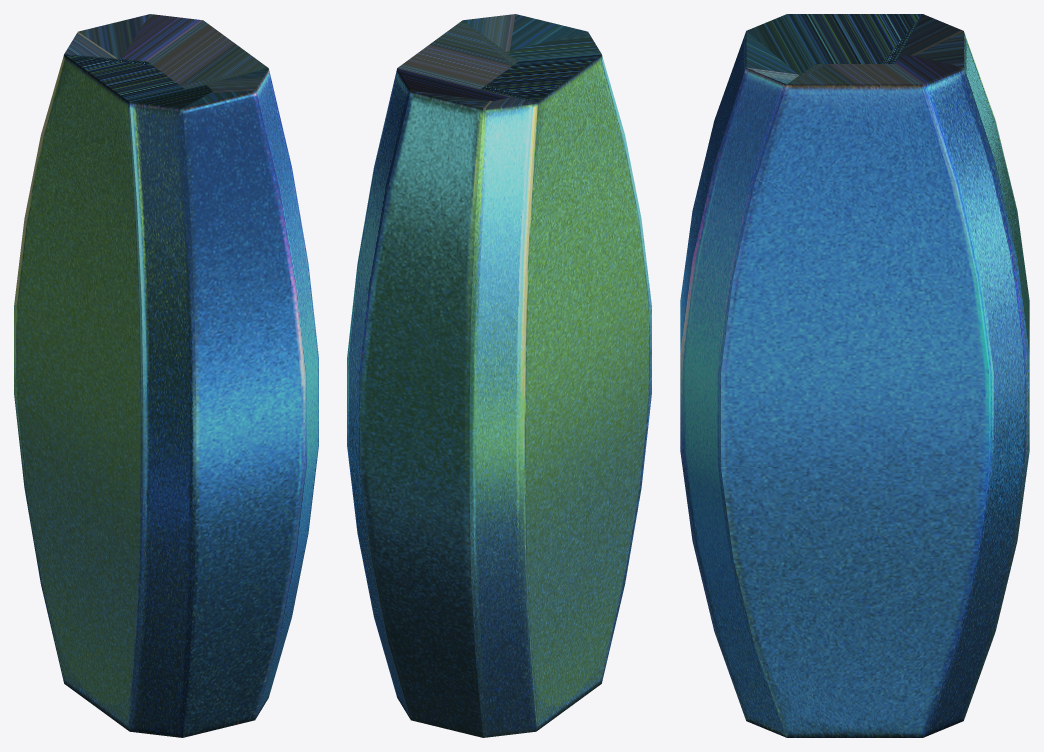
File: vase03.fbx
The picture shows the model from 3 angles, left to right: view 1: azimuth 30°, elevation 25°; view 2: azimuth 150°, elevation 25°; view 3: azimuth 270°, elevation 25°; orthographic projection. The views are drawn at different scales.
Parts seen in each view (by area): view 1: Cube.001; view 2: Cube.001; view 3: Cube.001.
Part boxes in pixels (left/top/right/bottom): Cube.001: left=14, top=14, right=318, bottom=737; Cube.001: left=347, top=14, right=651, bottom=737; Cube.001: left=680, top=14, right=1029, bottom=737.
Bounding box in the file's own units: 0.1164 × 0.1935 × 0.3991.
1 material, 1 textured.
